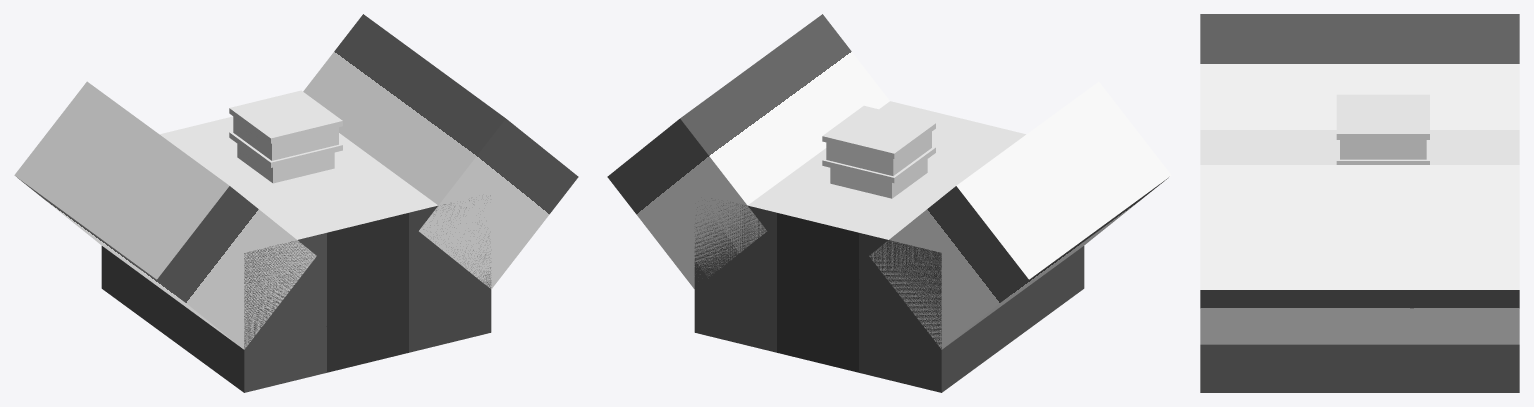
Rendered from gpp_v6.obj.
The picture shows the model from 3 angles, left to right: view 1: azimuth 30°, elevation 25°; view 2: azimuth 150°, elevation 25°; view 3: azimuth 270°, elevation 25°; orthographic projection. The views are drawn at different scales.
Visible parts, largest first — view 1: engine, cube; view 2: engine, cube; view 3: engine, cube.
Part boxes in pixels (x1,y1,x2,y2): engine: (14, 14, 578, 392); cube: (229, 90, 342, 183); engine: (607, 14, 1171, 392); cube: (822, 105, 935, 198); engine: (1200, 14, 1519, 392); cube: (1336, 94, 1429, 164).
Bounding box in the file's own units: 0.7952 × 0.3796 × 0.4658.
